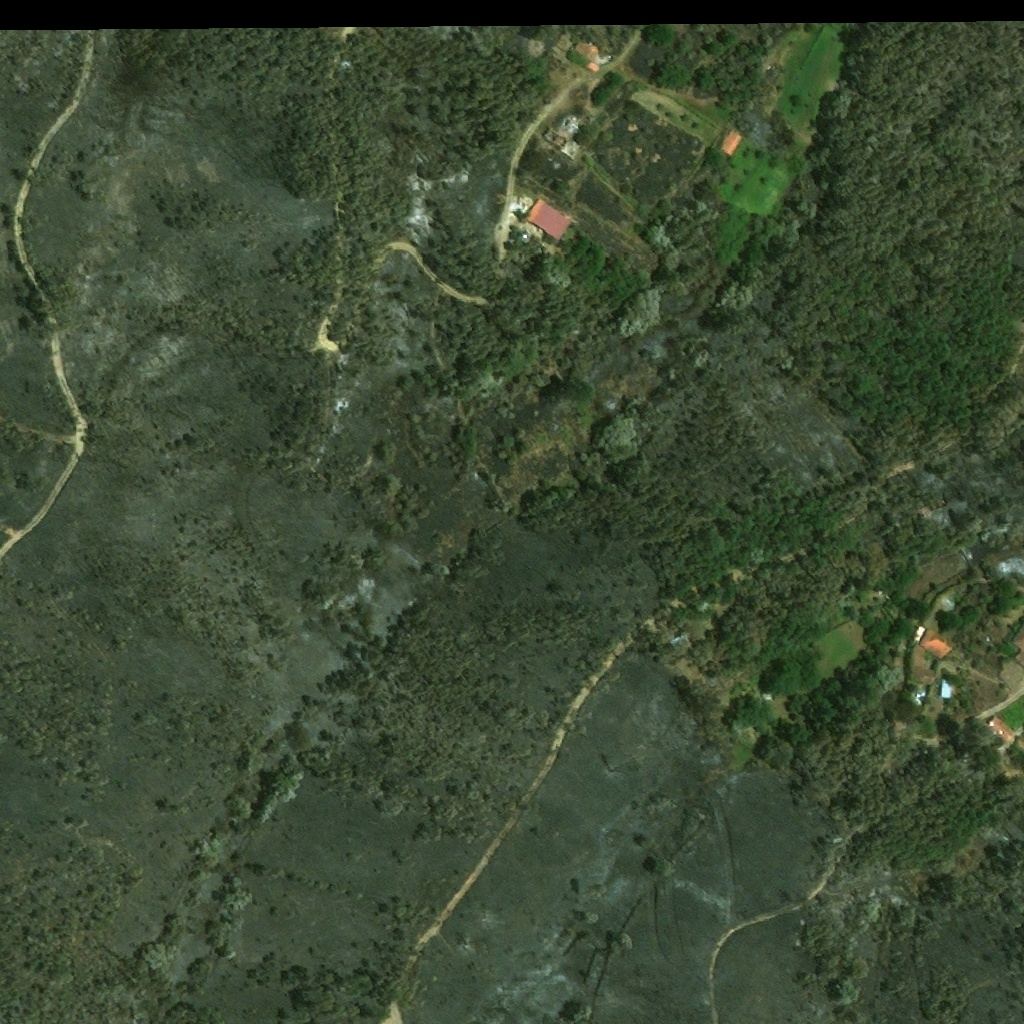0 no-damage: (528, 197, 575, 241), (920, 629, 952, 660), (986, 715, 1016, 740), (718, 131, 744, 158), (573, 39, 598, 61), (912, 645, 924, 683), (912, 624, 928, 645), (939, 678, 954, 700), (919, 668, 936, 686), (586, 62, 601, 74)
3 destroyed: (543, 116, 584, 152), (514, 201, 534, 219)
4 un-classified: (1012, 623, 1023, 670), (1016, 735, 1023, 748)
